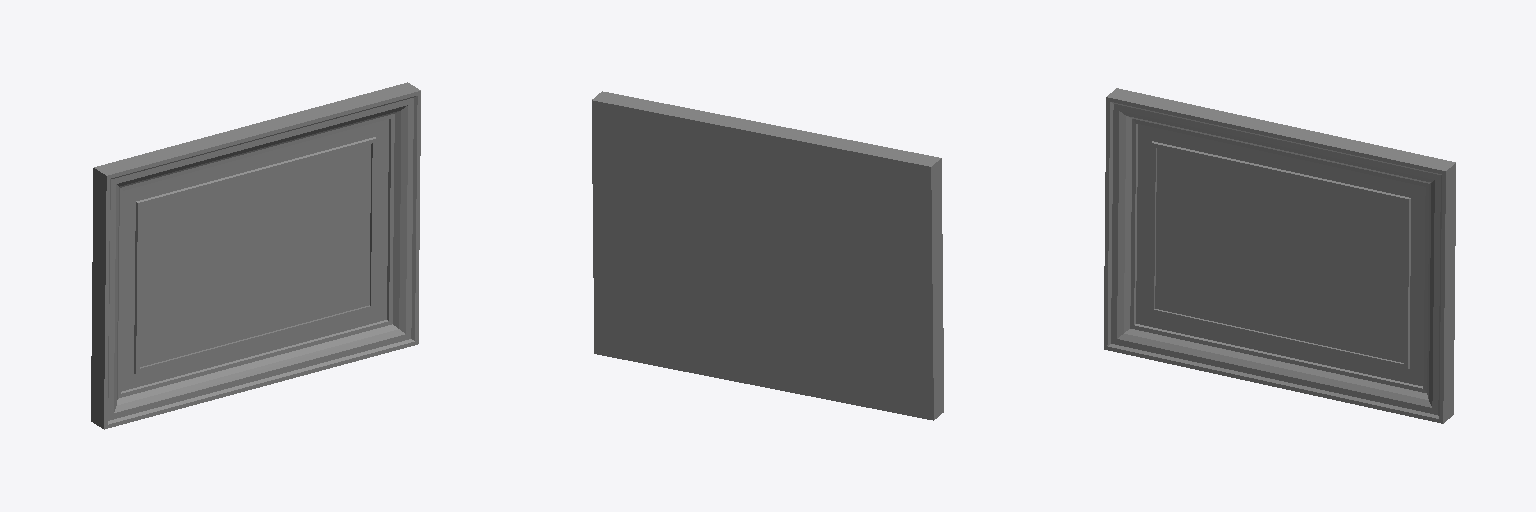
Rendered from cuadroFondo.obj.
3 views of the same model, side by side, from view 1: azimuth 30°, elevation 25°; view 2: azimuth 150°, elevation 25°; view 3: azimuth 330°, elevation 25° (orthographic).
Visible parts, largest first — view 1: Marco, Imagen; view 2: Marco; view 3: Marco, Imagen.
Boxes of the visible parts, <box> form: Marco: <box>91,82,420,429</box>; Imagen: <box>140,144,370,366</box>; Marco: <box>592,91,943,420</box>; Marco: <box>1104,88,1455,423</box>; Imagen: <box>1155,148,1405,362</box>.
Bounding box in the file's own units: 9.42 × 6.99 × 1.2.